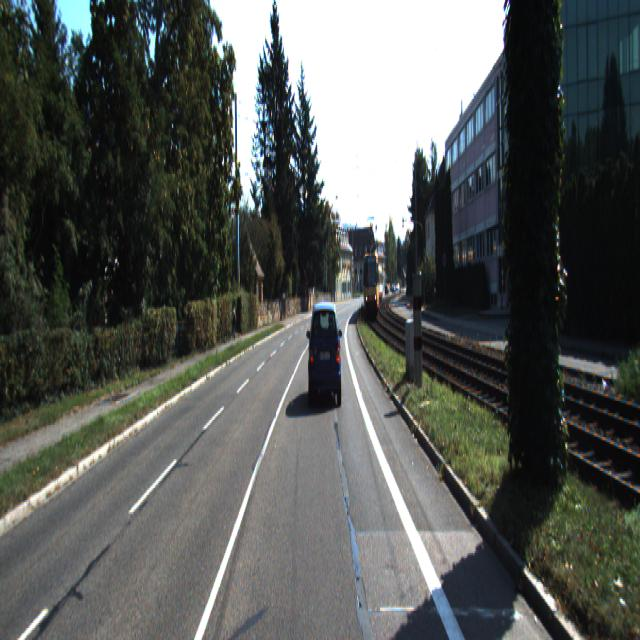Car: (308, 300, 342, 410), (363, 248, 379, 318)
